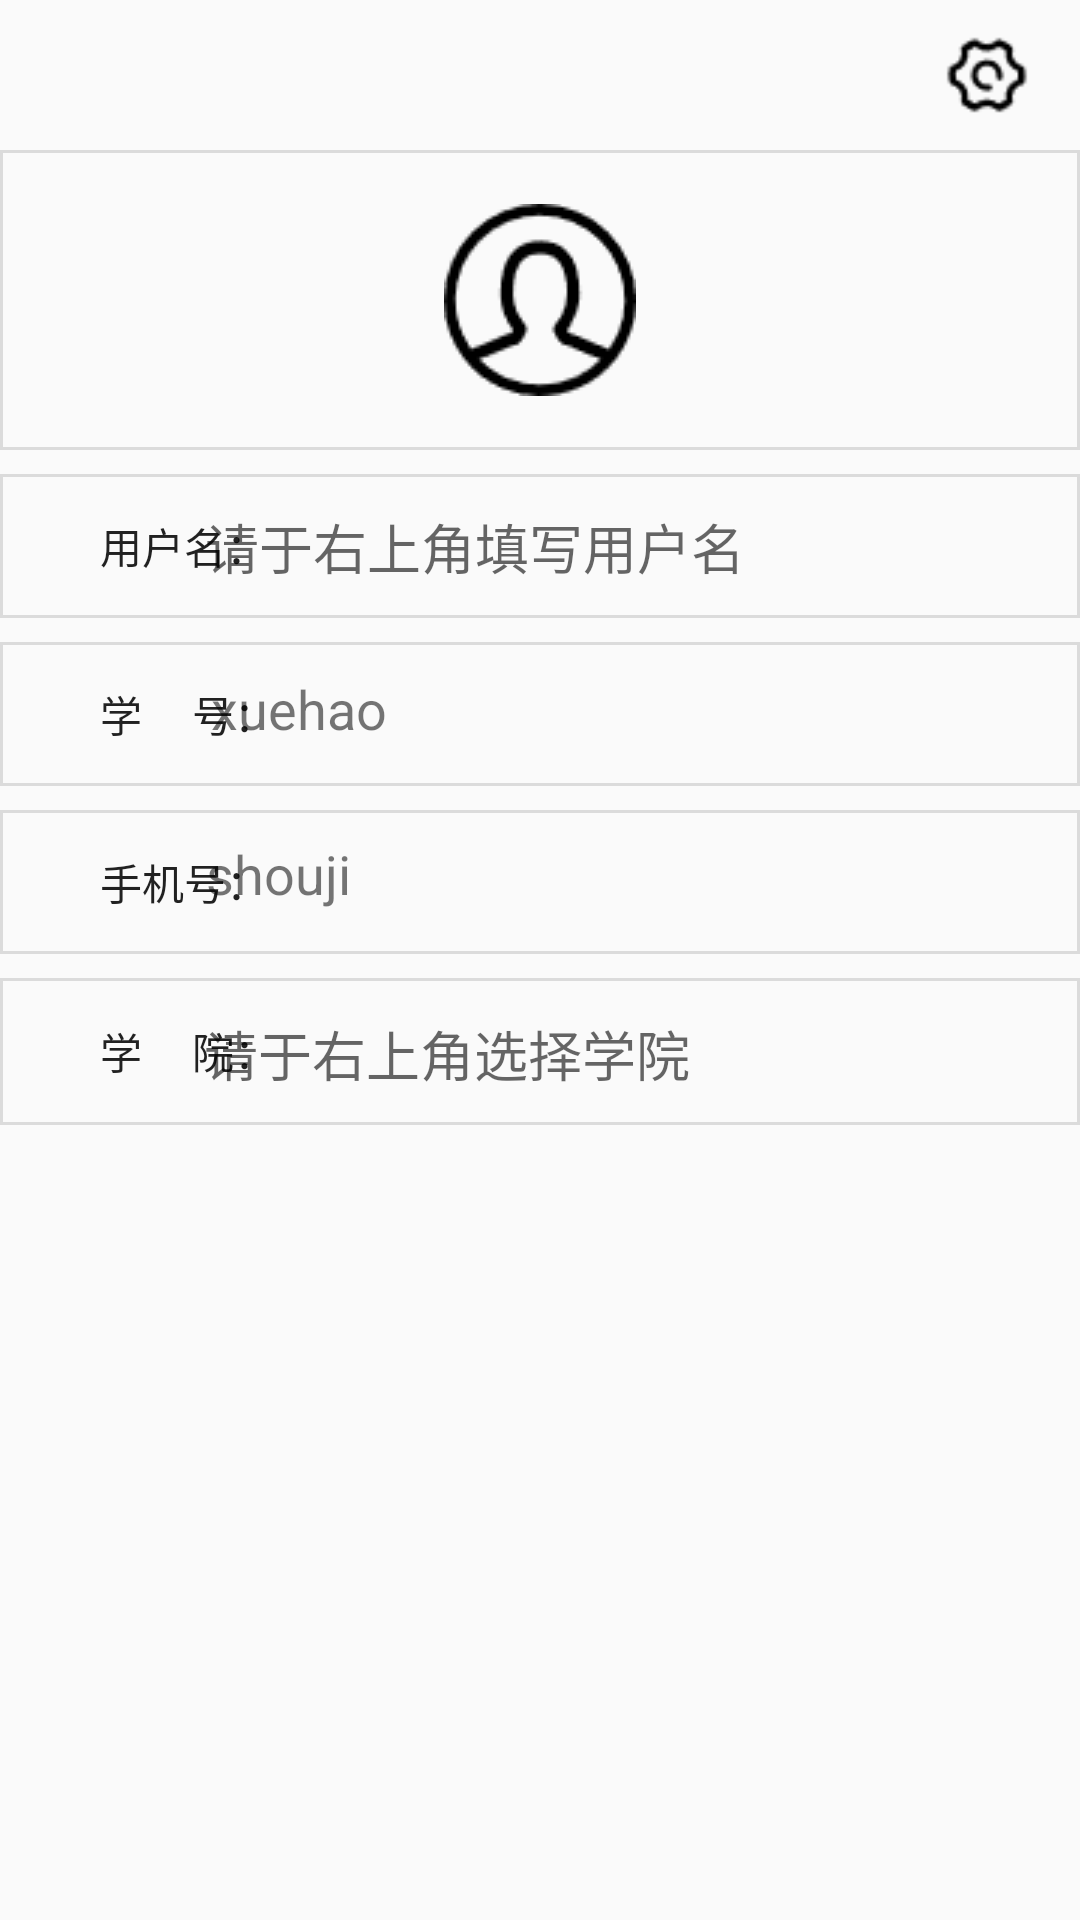

Icons on this 1080×1920 Android screen, each with its box as [x1, y1, x2, y2]:
setting: [947, 38, 1027, 113]
